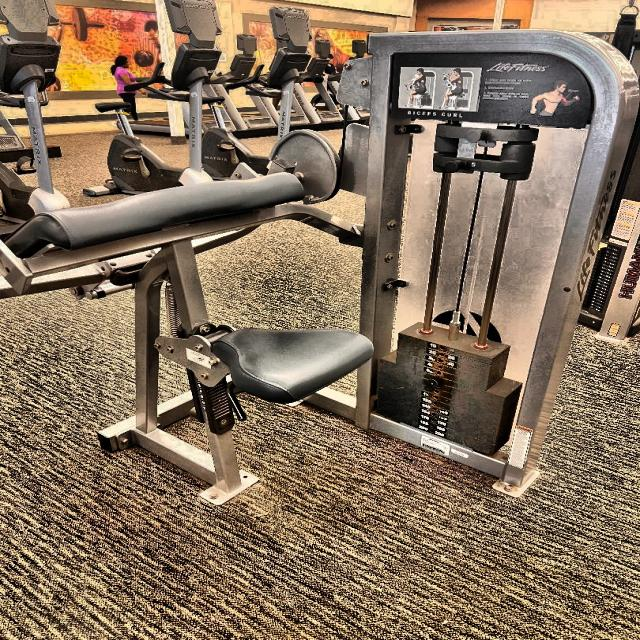bicep_curl_machine: (0, 31, 636, 519), (4, 143, 374, 505), (3, 143, 374, 304), (395, 58, 584, 124)
